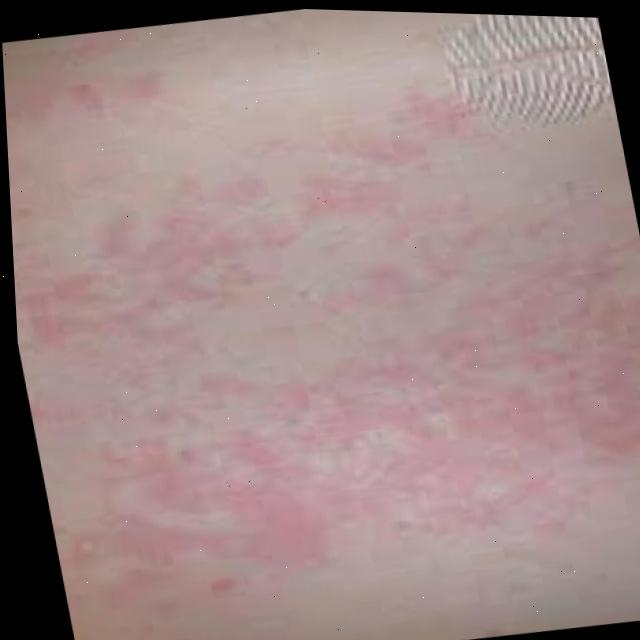Eczema: (6, 113, 640, 640)
